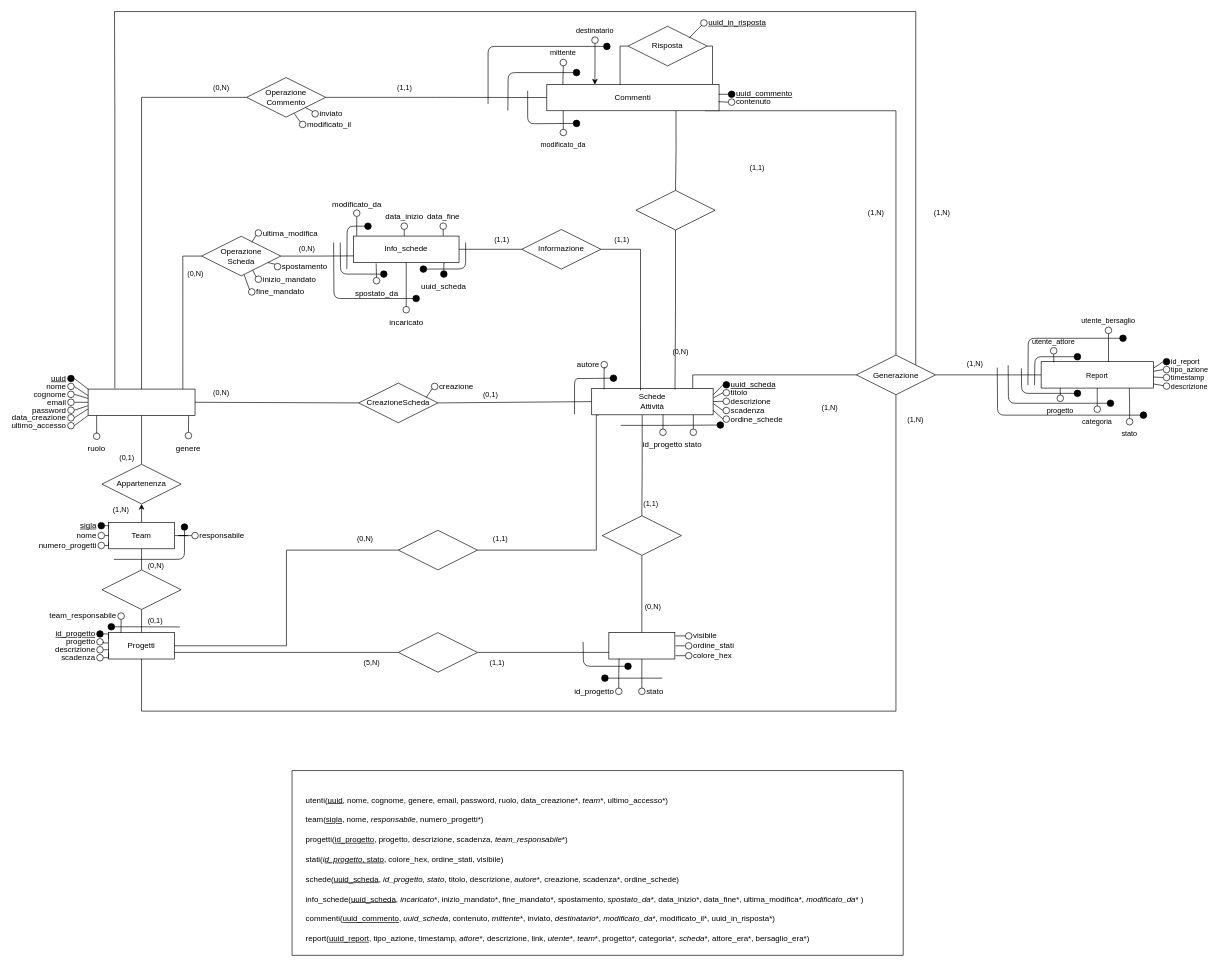
Some shapes in this 1221 by 967 pixel diagram are drawn without their labels. The shapes that lost their labels are listed below. From the top down, each one's centre as x and y in pixels, then its label:
At [675,210]: "Comunicazione".
At [141,401]: "Utente".
At [438,550]: "Documentazione".
At [641,535]: "Progresso".
At [141,589]: "Responsabilità".
At [438,652]: "Categorizzazione".
At [641,645]: "Stati".
